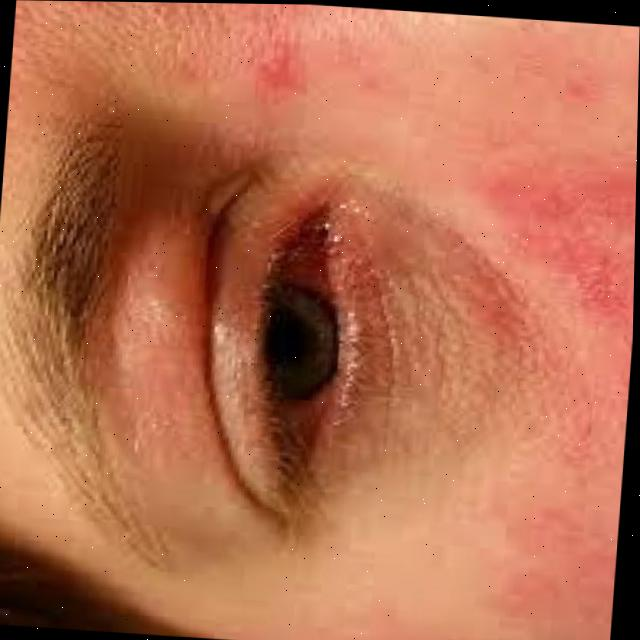Rosacea: (85, 23, 640, 640)
